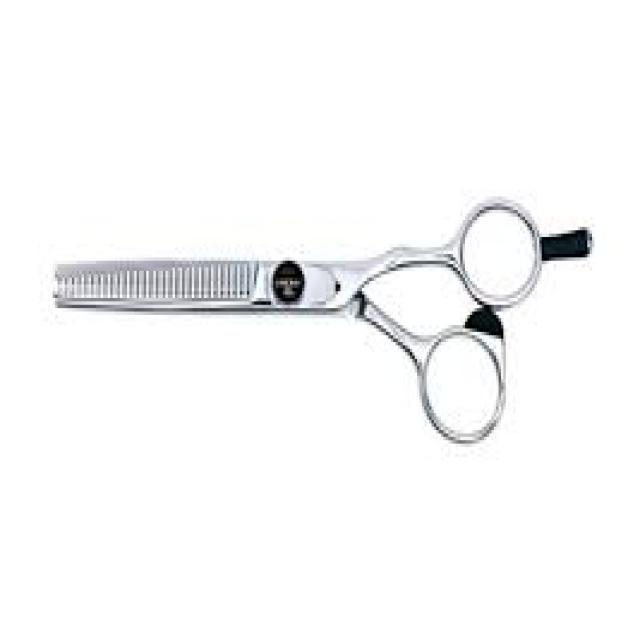scissor: (55, 196, 595, 444)
